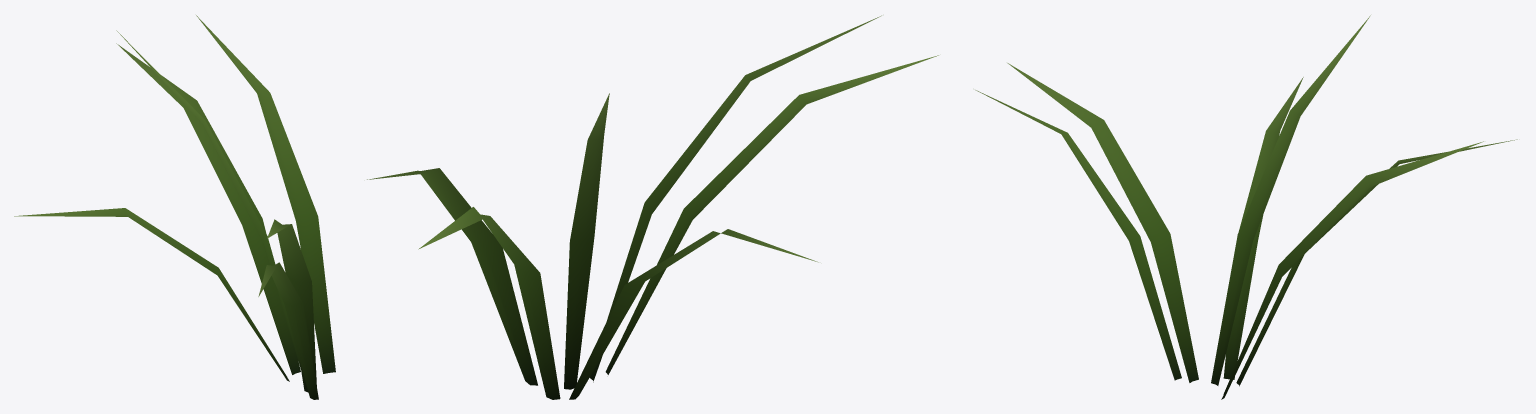
Rendered from b612_veg_VL_Grass_BroadBlade_A_1.glb.
3 views of the same model, side by side, from view 1: azimuth 30°, elevation 25°; view 2: azimuth 150°, elevation 25°; view 3: azimuth 270°, elevation 25° (orthographic). The views are drawn at different scales.
Visible parts, largest first — view 1: Grass_BroadBlade_A_LOD1; view 2: Grass_BroadBlade_A_LOD1; view 3: Grass_BroadBlade_A_LOD1.
Part boxes in pixels (bbox=[...]): Grass_BroadBlade_A_LOD1: bbox=[14, 15, 335, 399]; Grass_BroadBlade_A_LOD1: bbox=[367, 15, 938, 399]; Grass_BroadBlade_A_LOD1: bbox=[975, 15, 1517, 399].
Size of the model in its own units: 0.4384 by 0.4631 by 0.7294.
